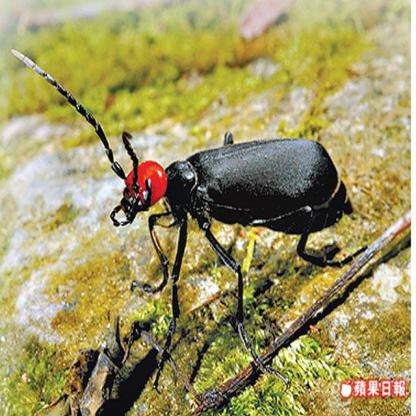beetle: (38, 72, 346, 408)
